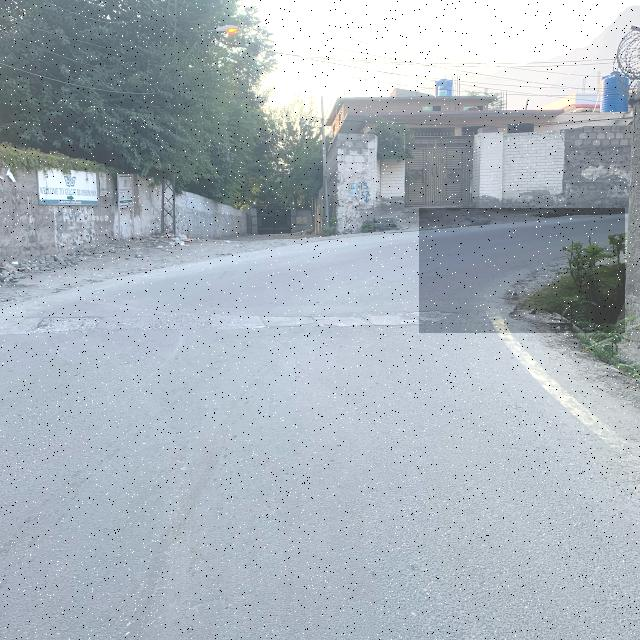right: (419, 208, 625, 333)
